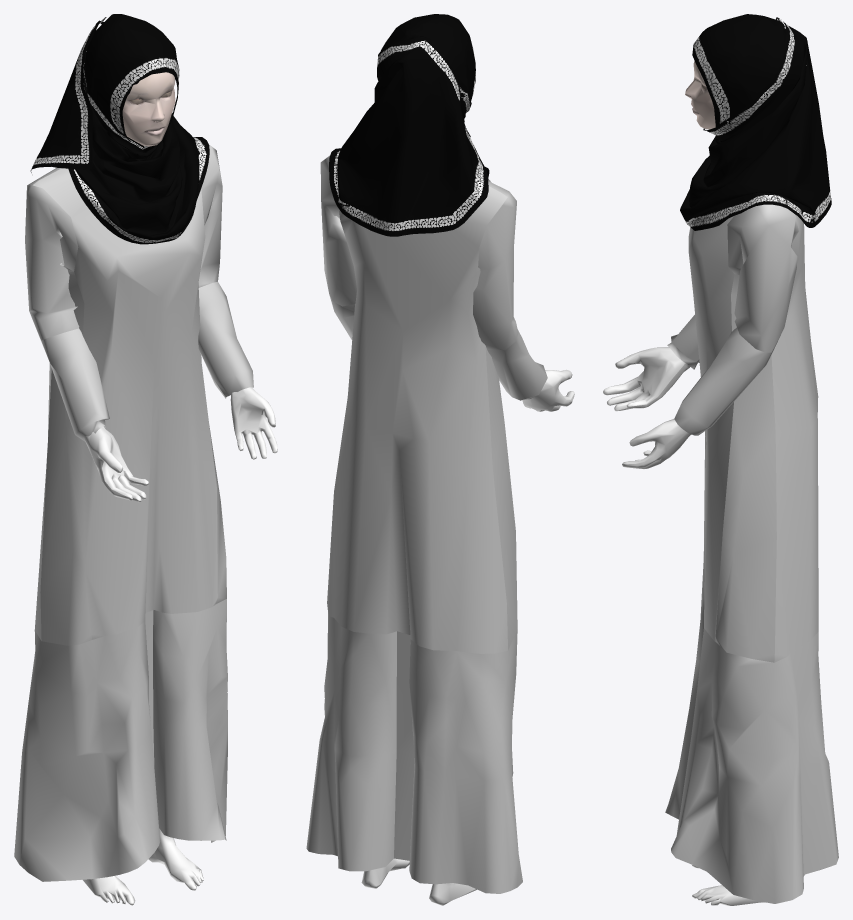
The model's file is muslima.glb.
3 views of the same model, side by side, from view 1: azimuth 30°, elevation 25°; view 2: azimuth 150°, elevation 25°; view 3: azimuth 270°, elevation 25° (orthographic).
Parts seen in each view (by area): view 1: dress, hijab, arms, head, feet; view 2: dress, hijab, feet, arms; view 3: dress, hijab, arms, head, feet.
Part boxes in pixels (bbox=[...]): dress: bbox=[14, 144, 253, 881]; hijab: bbox=[30, 14, 209, 244]; arms: bbox=[83, 387, 277, 501]; head: bbox=[122, 72, 175, 146]; feet: bbox=[82, 828, 203, 905]; dress: bbox=[306, 155, 547, 893]; hijab: bbox=[329, 14, 490, 236]; feet: bbox=[361, 858, 476, 905]; arms: bbox=[522, 369, 574, 411]; dress: bbox=[665, 204, 838, 903]; hijab: bbox=[680, 14, 831, 230]; arms: bbox=[603, 347, 691, 469]; head: bbox=[685, 61, 715, 129]; feet: bbox=[692, 865, 765, 905].
Size of the model in its own units: 0.4053 by 1.7 by 0.421.
Materials: 6 (3 with a texture image).
